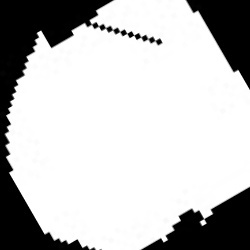spot: (6, 2, 248, 248)
